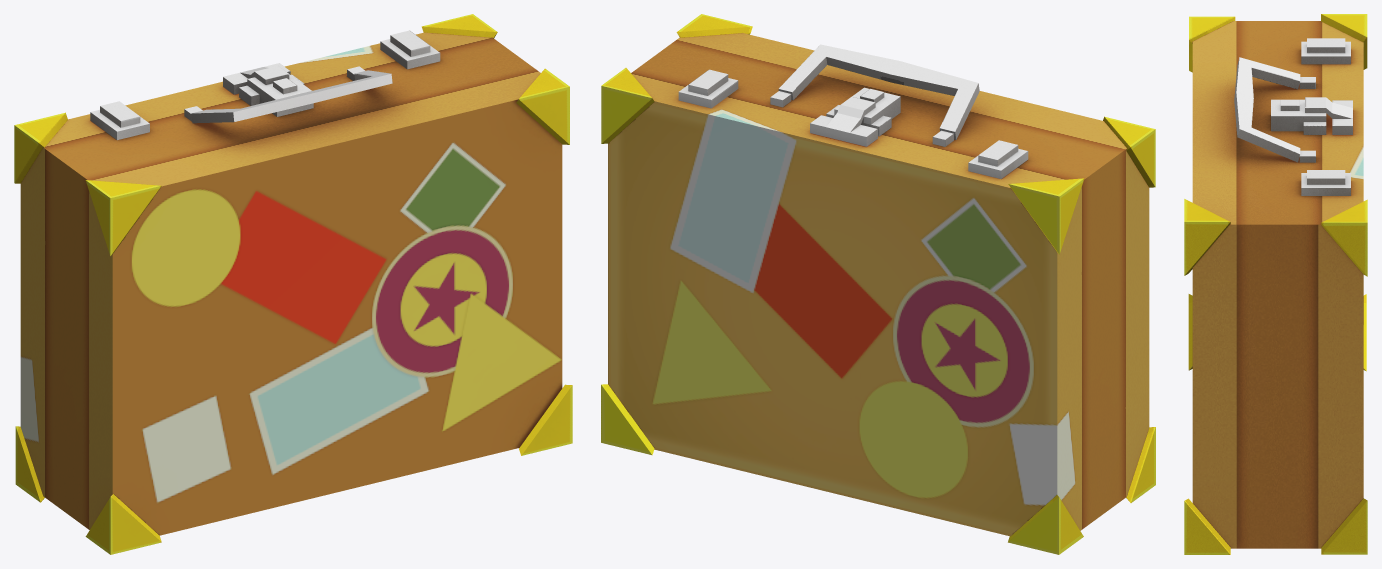
File: suitcase.fbx
The picture shows the model from 3 angles, left to right: view 1: azimuth 30°, elevation 25°; view 2: azimuth 150°, elevation 25°; view 3: azimuth 270°, elevation 25°; orthographic projection. The views are drawn at different scales.
Parts seen in each view (by area): view 1: suitcase; view 2: suitcase; view 3: suitcase.
Part boxes in pixels (x1,y1,x2,y2): suitcase: (14,14,572,554); suitcase: (601,14,1155,554); suitcase: (1184,14,1367,554).
Bounding box in the file's own units: 0.1854 × 0.1492 × 0.069.
